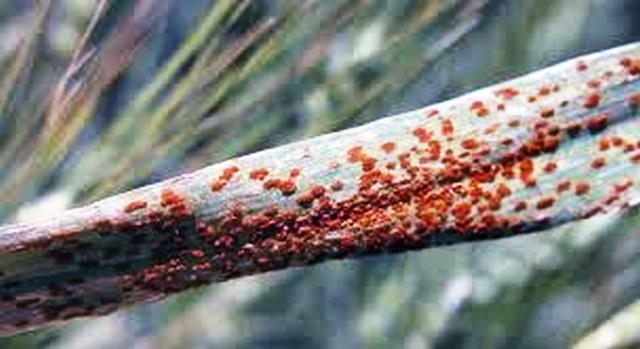Leaf Rust: (155, 49, 568, 283)
